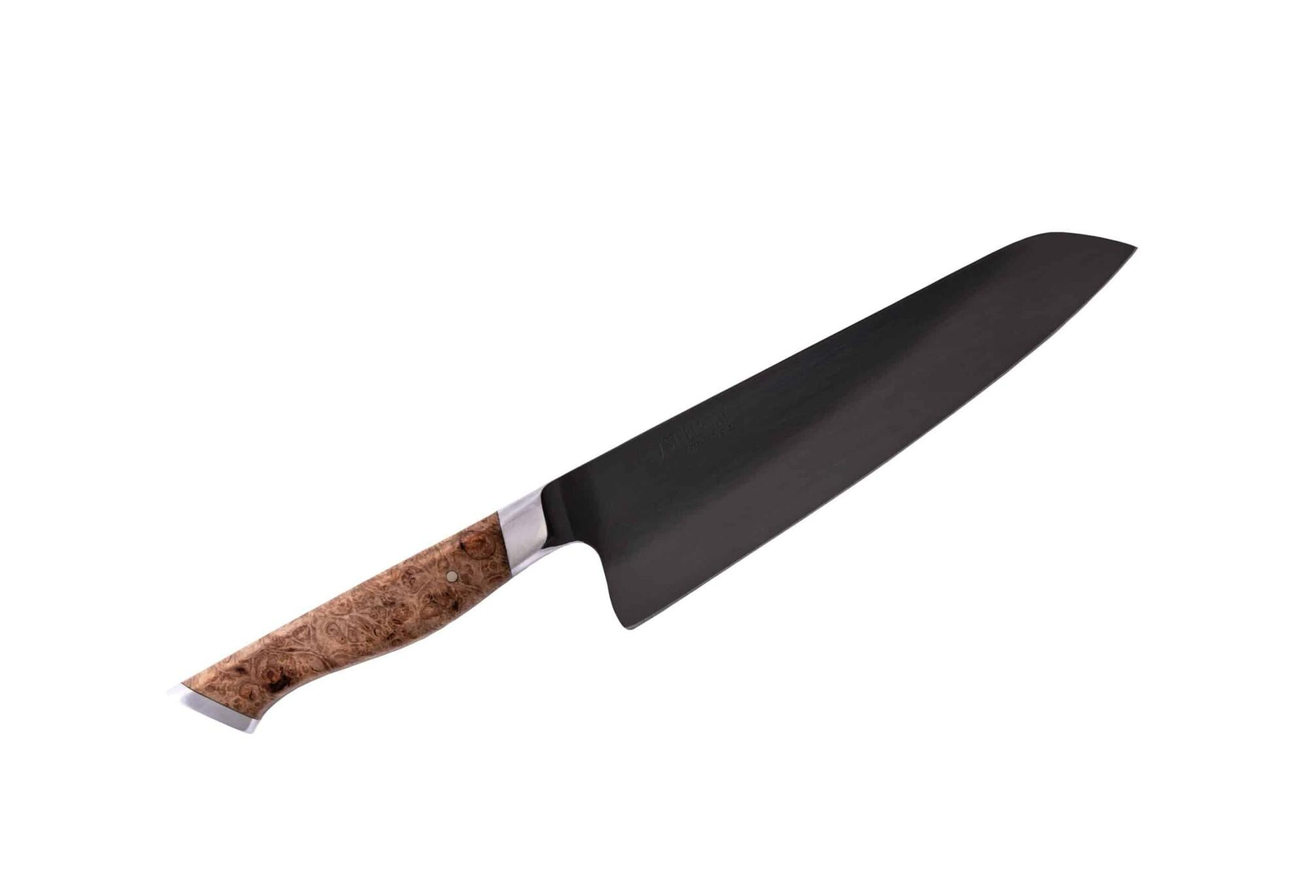Knife: (167, 227, 1143, 739)
